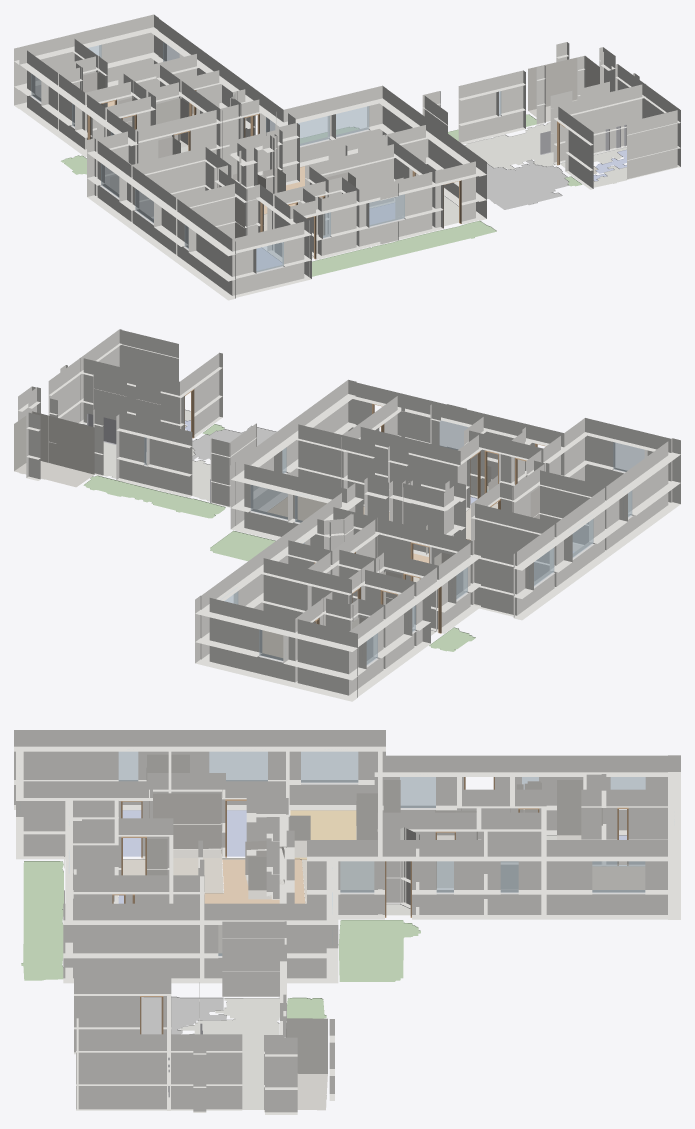
3 renders of one model, top to bottom at view 1: azimuth 30°, elevation 25°; view 2: azimuth 150°, elevation 25°; view 3: azimuth 270°, elevation 25°, orthographic. The views are drawn at different scales.
Parts seen in each view (by area): view 1: walls, floor_29_Garage, floor_25_Outdoor, floor_31_Undefined, furniture_11_closet, window_17, window_8, furniture_8_closet, window_14, window_25, railings, floor_33_Undefined (+1 smaller); view 2: walls, furniture_11_closet, floor_23_Outdoor, floor_31_Undefined, floor_22_Outdoor, window_8, floor_29_Garage, floor_13_Living_Room, window_25, window_0, window_17, floor_21_Outdoor; view 3: walls, floor_25_Outdoor, floor_31_Undefined, floor_22_Outdoor, furniture_12_closet, furniture_11_closet, floor_29_Garage, floor_13_Living_Room, window_4, window_2, window_3, floor_14_Entry (+16 smaller).
Part boxes in pixels (x1=…): walls: x1=14, y1=14, x2=680, y2=300; floor_29_Garage: x1=487, y1=159, x2=568, y2=209; floor_25_Outdoor: x1=312, y1=221, x2=496, y2=276; floor_31_Undefined: x1=464, y1=122, x2=555, y2=169; furniture_11_closet: x1=528, y1=55, x2=599, y2=121; window_17: x1=369, y1=194, x2=404, y2=226; window_8: x1=336, y1=106, x2=369, y2=136; furniture_8_closet: x1=156, y1=98, x2=188, y2=147; window_14: x1=298, y1=115, x2=329, y2=145; window_25: x1=256, y1=242, x2=283, y2=272; railings: x1=540, y1=125, x2=626, y2=154; floor_33_Undefined: x1=593, y1=165, x2=626, y2=187; walls: x1=18, y1=329, x2=680, y2=701; furniture_11_closet: x1=14, y1=411, x2=94, y2=487; floor_23_Outdoor: x1=83, y1=475, x2=225, y2=518; floor_31_Undefined: x1=82, y1=424, x2=210, y2=501; floor_22_Outdoor: x1=210, y1=530, x2=275, y2=561; window_8: x1=250, y1=485, x2=287, y2=519; floor_29_Garage: x1=192, y1=425, x2=276, y2=460; floor_13_Living_Room: x1=267, y1=496, x2=470, y2=563; window_25: x1=613, y1=442, x2=644, y2=471; window_0: x1=259, y1=629, x2=283, y2=660; window_17: x1=439, y1=420, x2=468, y2=450; floor_21_Outdoor: x1=429, y1=627, x2=475, y2=651; walls: x1=14, y1=730, x2=680, y2=1114; floor_25_Outdoor: x1=21, y1=861, x2=63, y2=980; floor_31_Undefined: x1=180, y1=997, x2=279, y2=1109; floor_22_Outdoor: x1=338, y1=920, x2=420, y2=981; furniture_12_closet: x1=149, y1=793, x2=221, y2=857; furniture_11_closet: x1=286, y1=1018, x2=327, y2=1110; floor_29_Garage: x1=141, y1=996, x2=226, y2=1034; floor_13_Living_Room: x1=204, y1=858, x2=305, y2=952; window_4: x1=301, y1=751, x2=358, y2=782; window_2: x1=592, y1=861, x2=645, y2=892; window_3: x1=209, y1=751, x2=267, y2=781; floor_14_Entry: x1=123, y1=850, x2=245, y2=893.
Bounding box in the file's own units: 23.96 × 2.72 × 21.79.
